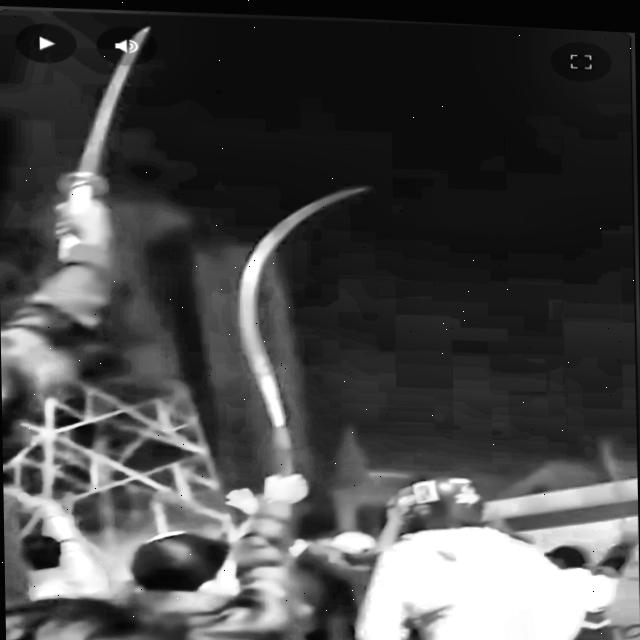celurit: (182, 178, 405, 556)
